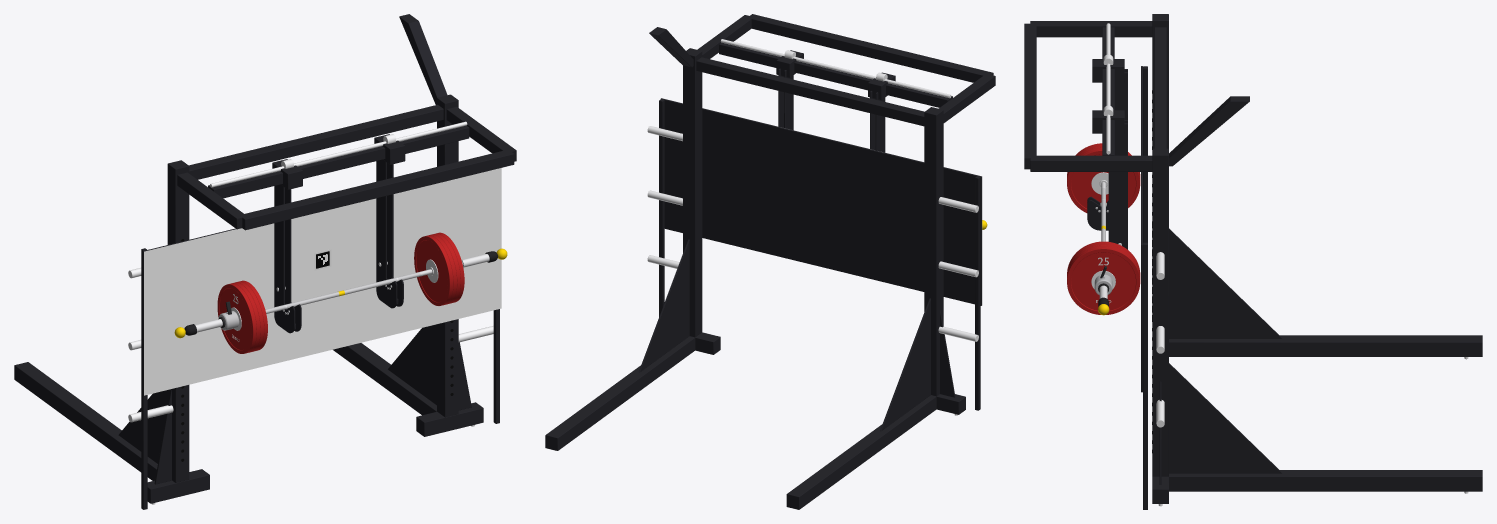
File: monolift.glb
The picture shows the model from 3 angles, left to right: view 1: azimuth 30°, elevation 25°; view 2: azimuth 150°, elevation 25°; view 3: azimuth 270°, elevation 25°; orthographic projection. The views are drawn at different scales.
Parts seen in each view (by area): view 1: Monolift_Frame_black_powdercoat, Monolift_Millimetre_paper, Barbell_225kg_Eleiko_IPF_red, Monolift_Chrome, Barbell_225kg_Steel_knurl; view 2: Monolift_Frame_black_powdercoat, Monolift_Chrome; view 3: Monolift_Frame_black_powdercoat, Barbell_225kg_Eleiko_IPF_red, Monolift_Chrome.
Part boxes in pixels (x1,y1,x2,y2): Monolift_Frame_black_powdercoat: (14, 14, 516, 509); Monolift_Millimetre_paper: (144, 168, 501, 395); Barbell_225kg_Eleiko_IPF_red: (217, 232, 464, 353); Monolift_Chrome: (128, 121, 493, 504); Barbell_225kg_Steel_knurl: (265, 272, 420, 313); Monolift_Frame_black_powdercoat: (545, 14, 995, 509); Monolift_Chrome: (647, 39, 978, 415); Monolift_Frame_black_powdercoat: (1024, 14, 1482, 509); Barbell_225kg_Eleiko_IPF_red: (1067, 143, 1140, 314); Monolift_Chrome: (1103, 23, 1468, 506).
Bounding box in the file's own units: 2.66 × 2.67 × 2.82.
19 materials, 1 textured.
